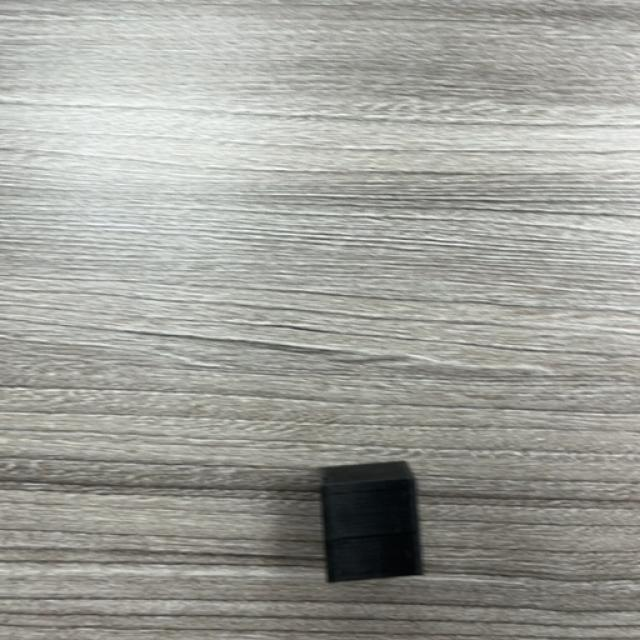Negro: (320, 461, 424, 585)
